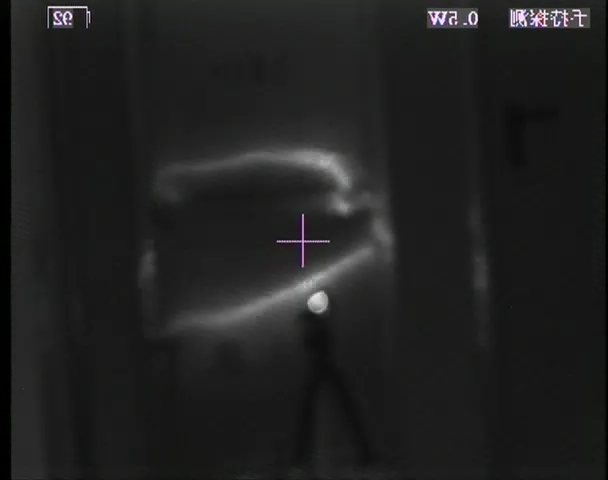my: (304, 288, 330, 314)
